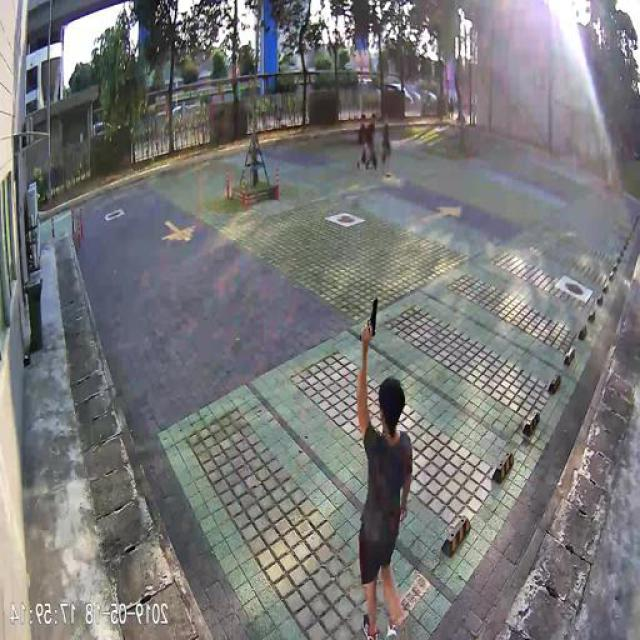Gun: (361, 294, 380, 342)
